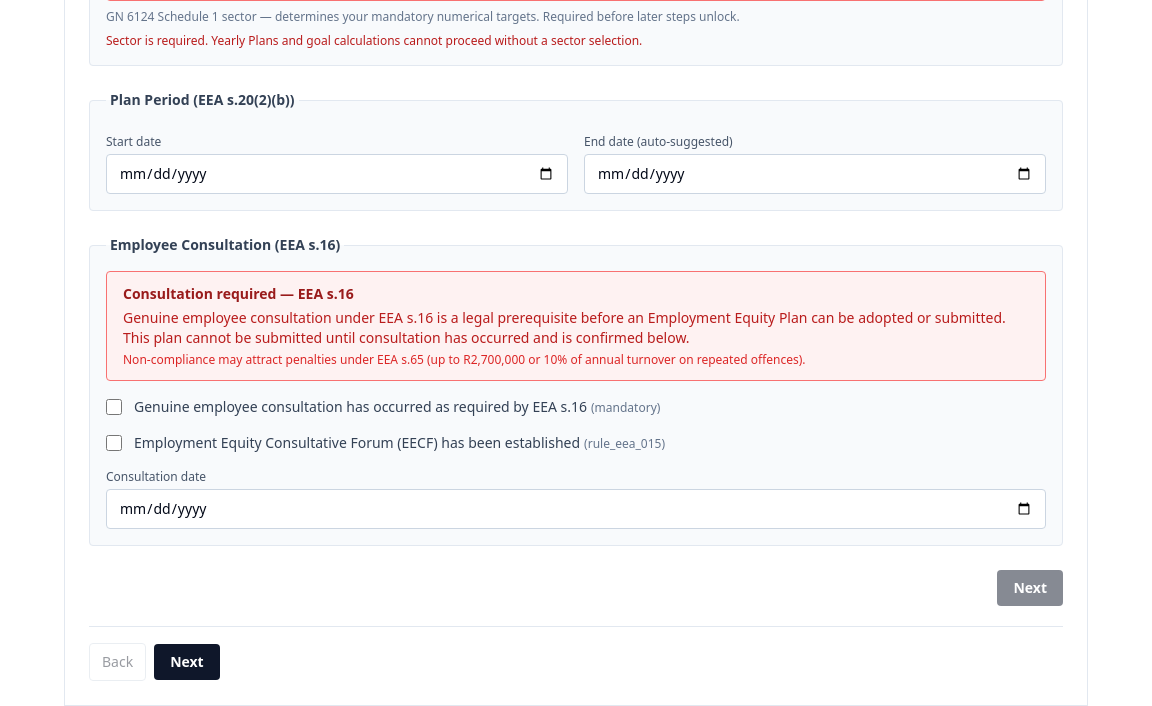
it: EEA13Form — consultation banner › banner disappears when consultedWithEmployees is checked
This screenshot has width=1152, height=706.
(page scrolled)
Expected: the message with test id "eea13-consultation-banner" is shown, [106, 271, 1046, 381]
Click the checkbox with test id "eea13-consulted-checkbox" at (114, 407), box [106, 399, 122, 415]
(page scrolled)
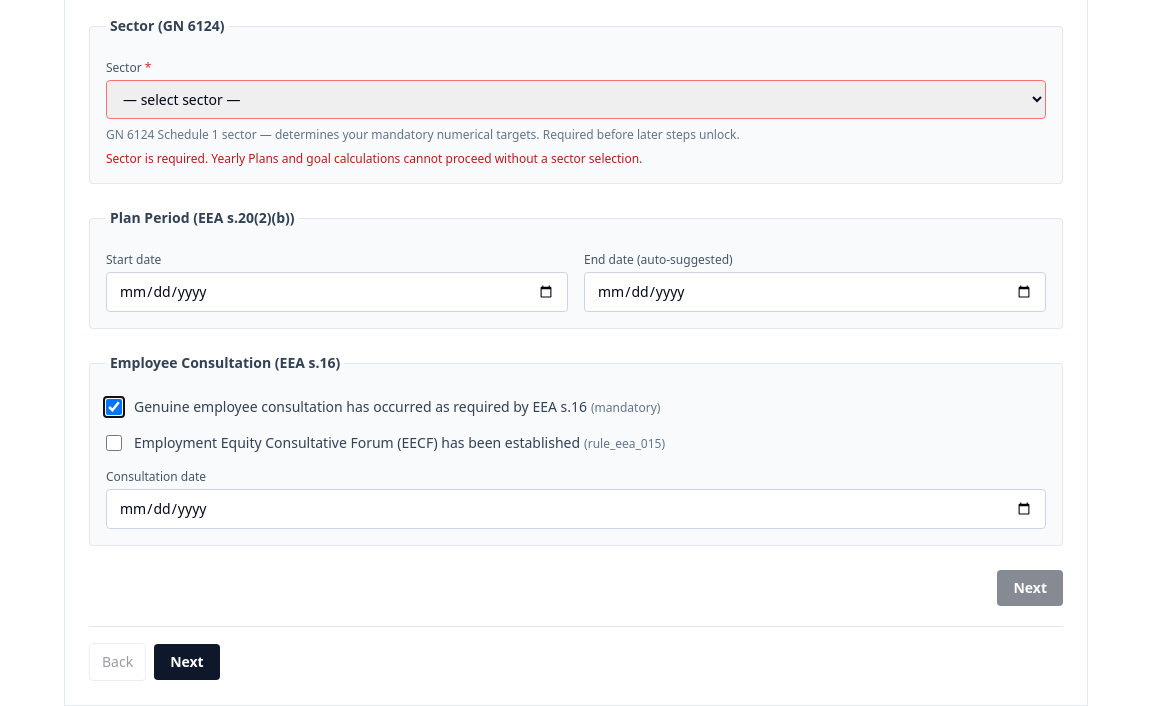
Result: the message with test id "eea13-consultation-banner" is gone
